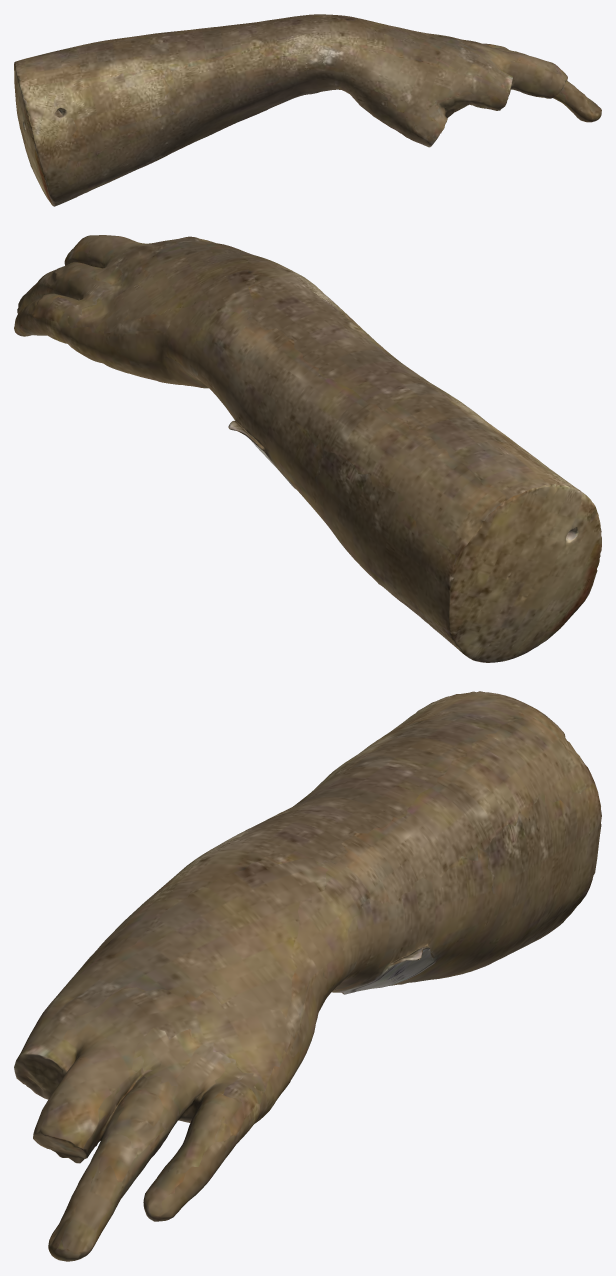
Rendered from life-cast-of-left-forearm-and-hand-20k-512-thumb.glb.
3 views of the same model, one above another, from view 1: azimuth 30°, elevation 25°; view 2: azimuth 150°, elevation 25°; view 3: azimuth 270°, elevation 25° (orthographic). The views are drawn at different scales.
Size of the model in its own units: 11.97 by 3.89 by 6.77.
Materials: 1 (1 with a texture image).
